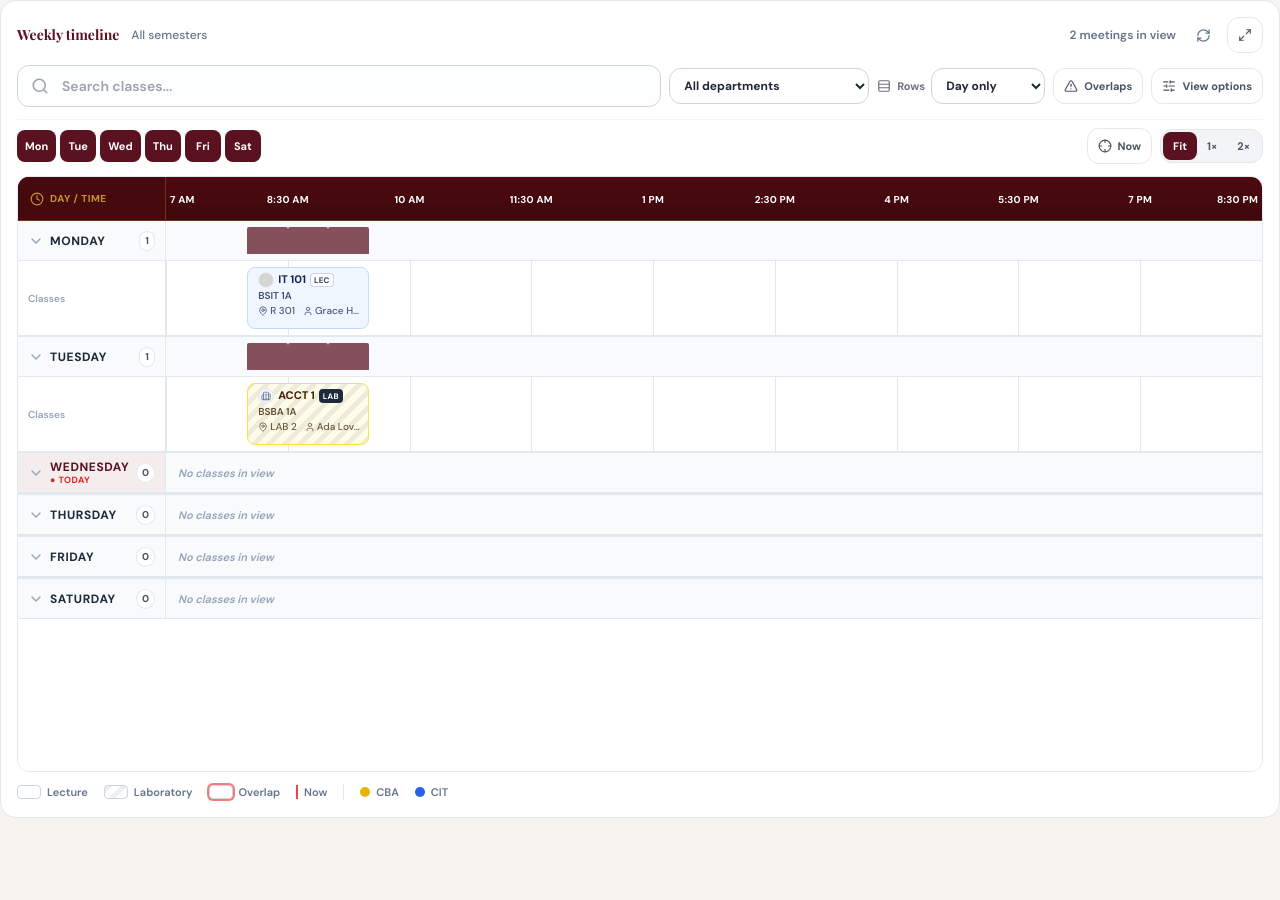
Test case: VpaaCalendarPage Gantt timeline › places blocks by real time on the configured standard hours
Click the button "View options" at (1207, 86), box [1151,68,1263,104]
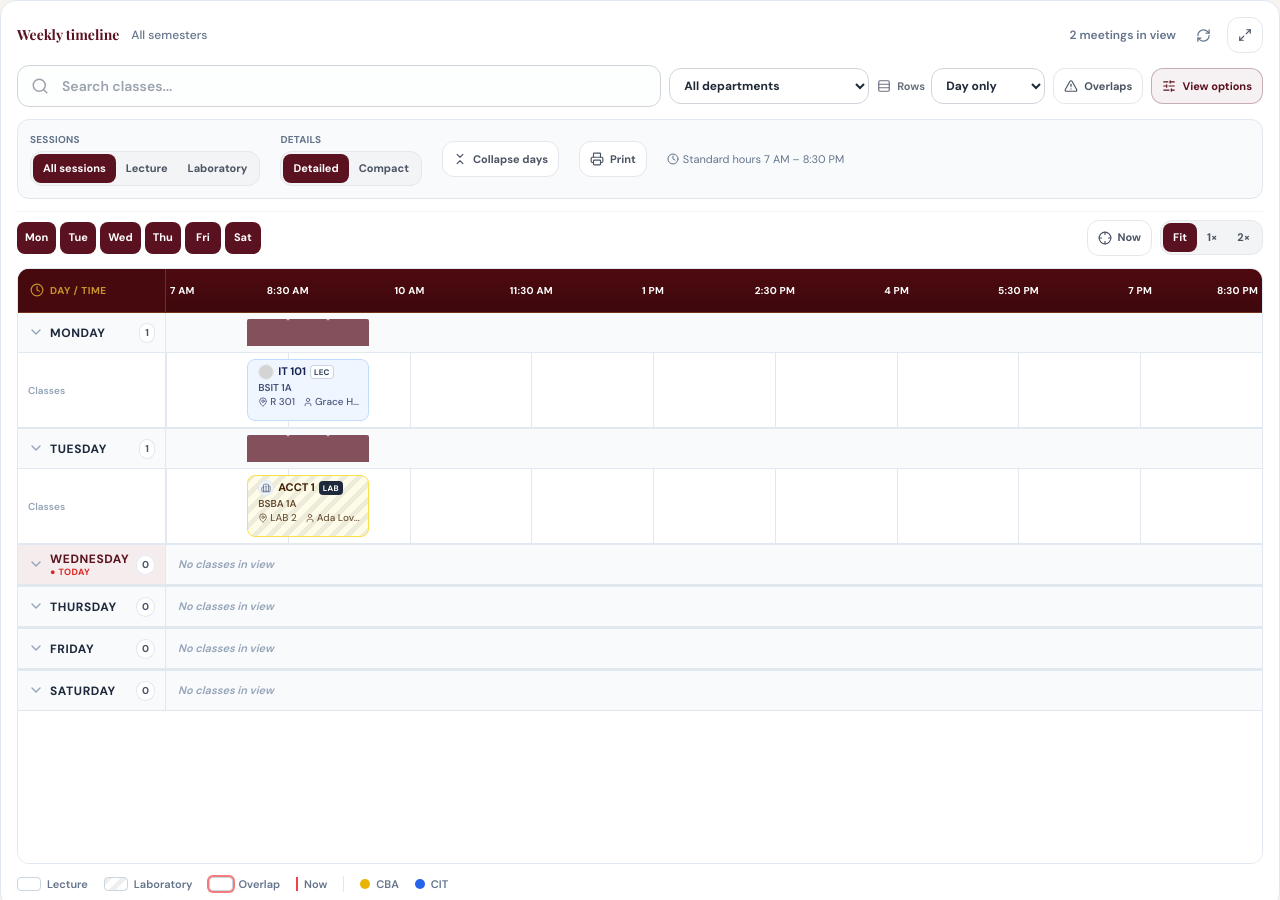
Now the text "Standard hours 7 AM – 8:30 PM" is shown, box [667,150,844,167]
